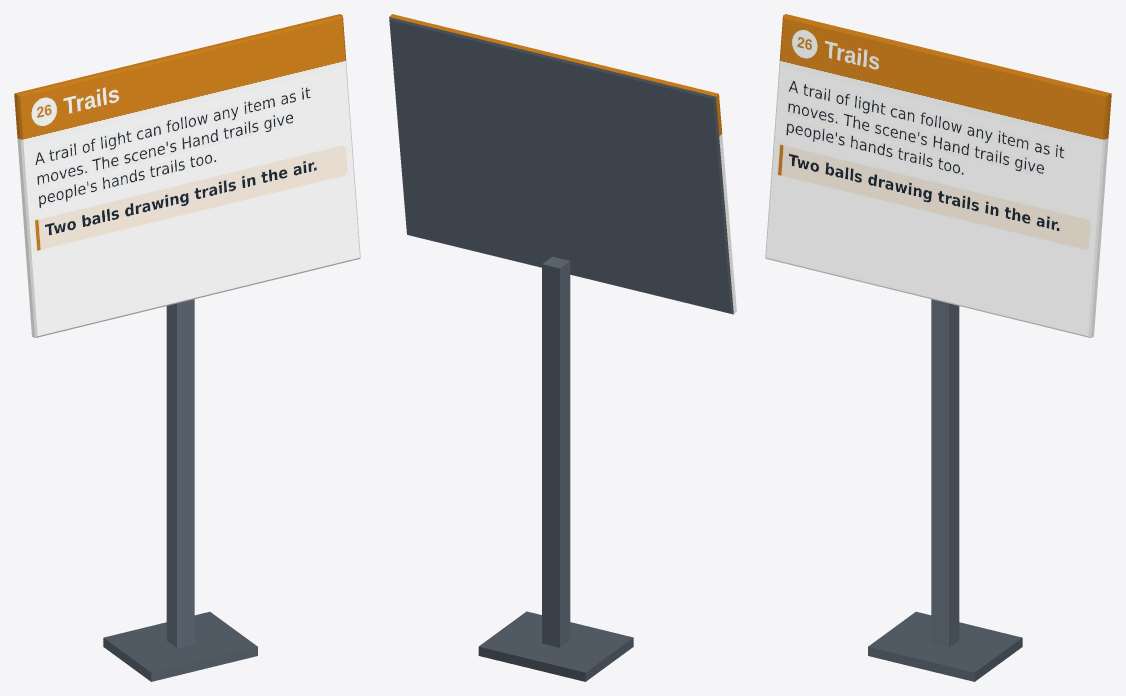
File: 26-trails.glb
3 views of the same model, side by side, from view 1: azimuth 30°, elevation 25°; view 2: azimuth 150°, elevation 25°; view 3: azimuth 330°, elevation 25° (orthographic).
Visible parts, largest first — view 1: board; view 2: board; view 3: board.
Boxes of the visible parts, x1,y1,x2,y2 form: board: (14,14,360,681); board: (389,14,736,681); board: (765,14,1111,681).
Size of the model in its own units: 1.1 by 1.92 by 0.28.
1 material, 1 textured.
